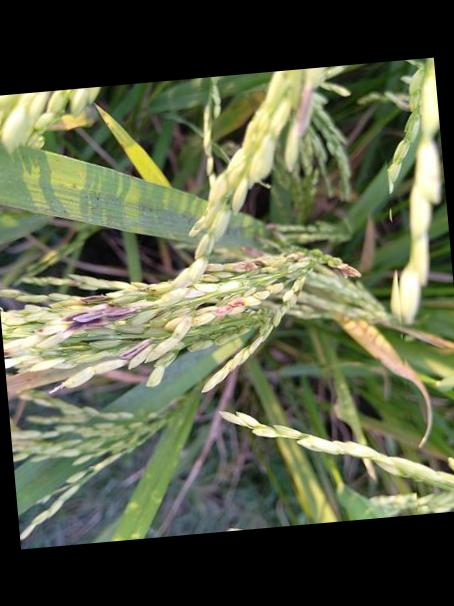Panicle Blight: (61, 291, 155, 336), (283, 77, 318, 171), (190, 297, 258, 326), (106, 337, 160, 369), (242, 222, 283, 256), (3, 336, 32, 356), (325, 262, 359, 279), (228, 261, 264, 271)
